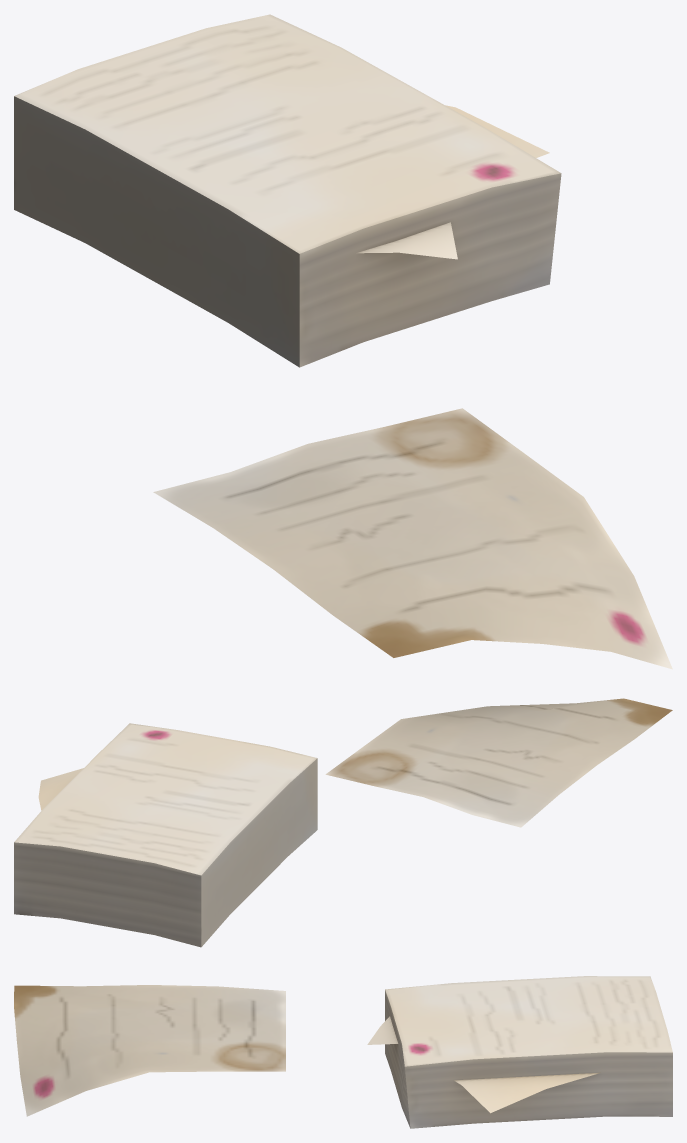
Rendered from Papier.FBX.
3 renders of one model, top to bottom at view 1: azimuth 30°, elevation 25°; view 2: azimuth 150°, elevation 25°; view 3: azimuth 270°, elevation 25°, orthographic. The views are drawn at different scales.
Parts seen in each view (by area): view 1: Papers; view 2: Papers; view 3: Papers.
Boxes of the visible parts, bbox=[...] form: Papers: bbox=[14, 14, 672, 669]; Papers: bbox=[14, 698, 672, 947]; Papers: bbox=[14, 976, 672, 1128].
Size of the model in its own units: 64.08 by 112 by 21.45.
